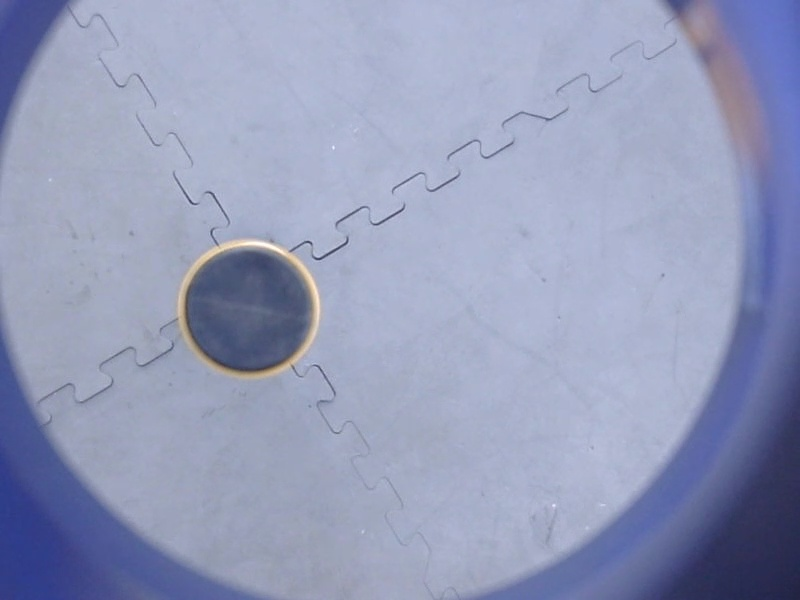tip: (170, 234, 330, 389)
